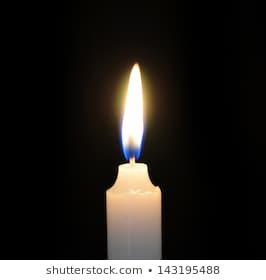Fire: (122, 60, 142, 158)
